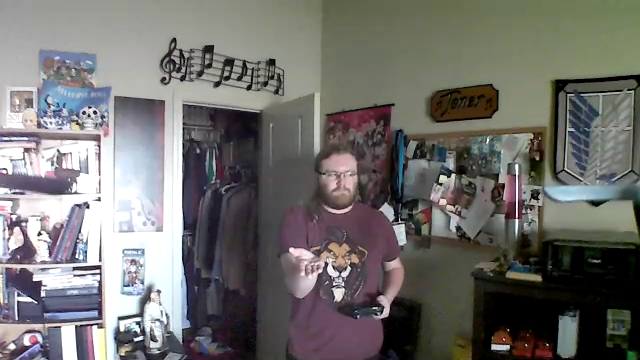land: (285, 240, 326, 281)
